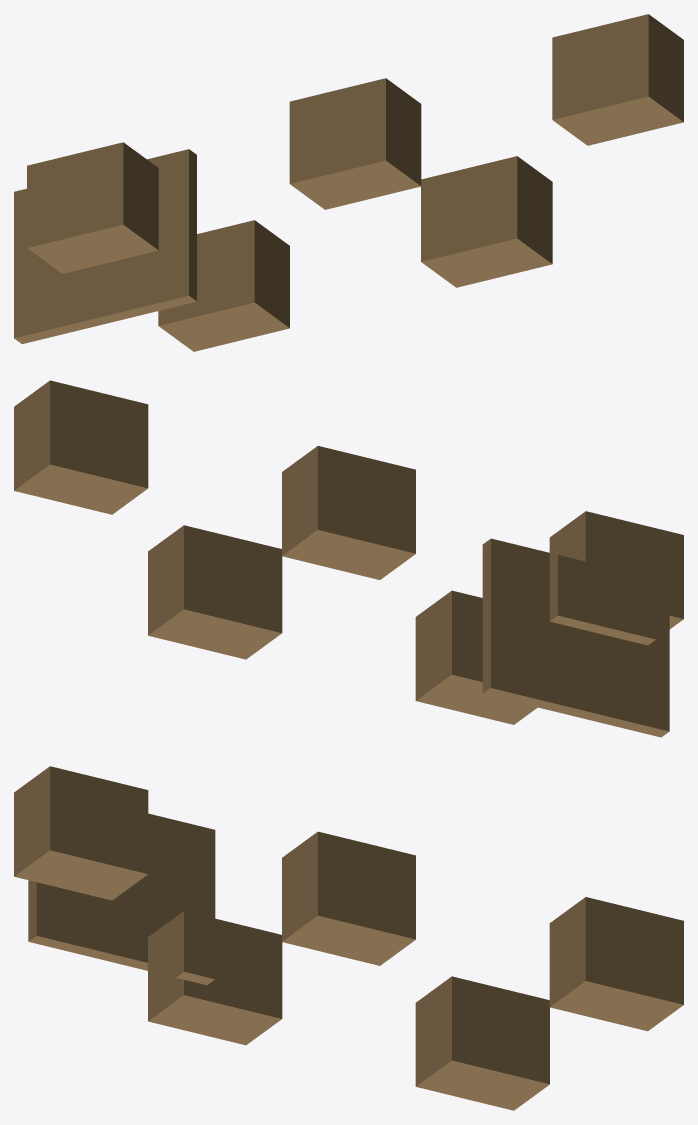
File: SM_DriftwoodCamp_Alpha.gltf
The picture shows the model from 3 angles, top to bottom: view 1: azimuth 30°, elevation 25°; view 2: azimuth 150°, elevation 25°; view 3: azimuth 330°, elevation 25°; orthographic projection.
Visible parts, largest first — view 1: SM_DriftwoodCamp_Alpha; view 2: SM_DriftwoodCamp_Alpha; view 3: SM_DriftwoodCamp_Alpha.
Boxes of the visible parts, x1,y1,x2,y2 form: SM_DriftwoodCamp_Alpha: (14,14,683,351); SM_DriftwoodCamp_Alpha: (14,380,683,737); SM_DriftwoodCamp_Alpha: (14,766,683,1110).
Size of the model in its own units: 7.25 by 2.1 by 0.7.
